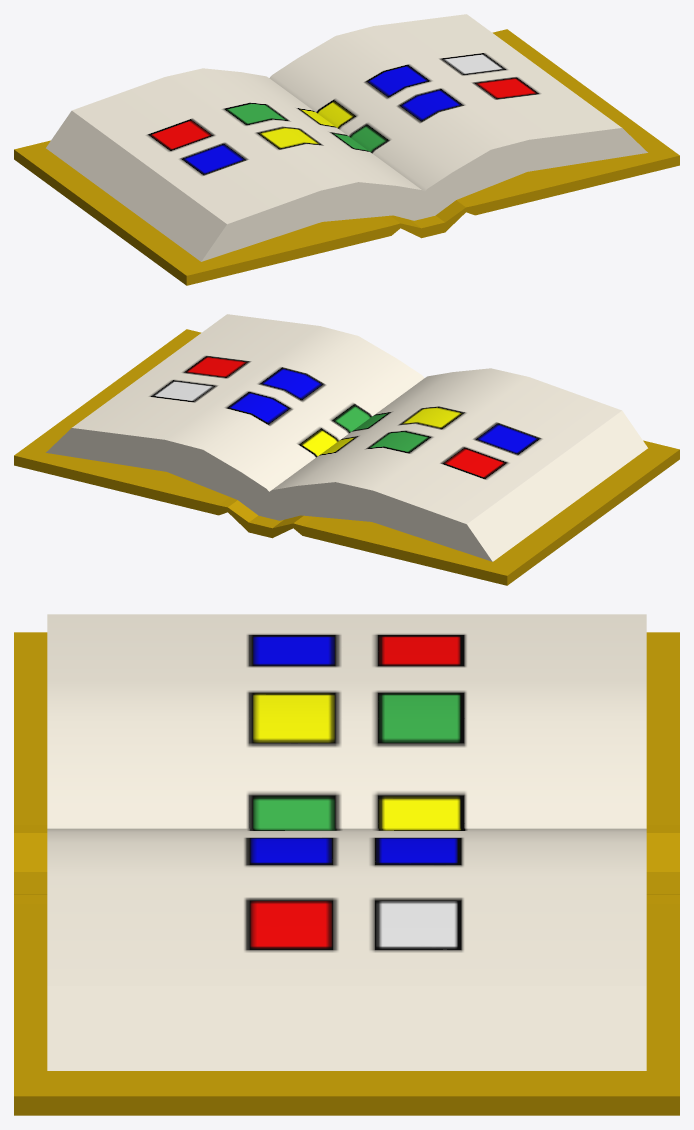
The picture shows the model from 3 angles, top to bottom: view 1: azimuth 30°, elevation 25°; view 2: azimuth 150°, elevation 25°; view 3: azimuth 270°, elevation 25°; orthographic projection. The views are drawn at different scales.
Parts seen in each view (by area): view 1: Book_Open; view 2: Book_Open; view 3: Book_Open.
Boxes of the visible parts, left/top/right/bottom form: Book_Open: left=14, top=14, right=679, bottom=285; Book_Open: left=14, top=314, right=679, bottom=585; Book_Open: left=14, top=614, right=679, bottom=1115.
Size of the model in its own units: 63.15 by 7.8 by 38.31.
